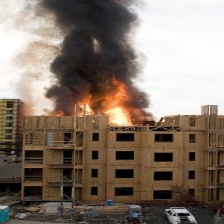fire: (73, 101, 133, 128)
smoke: (28, 1, 155, 109)
